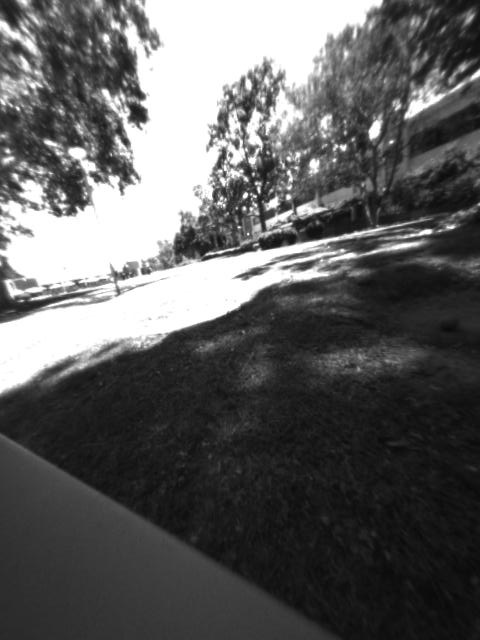dogtoy: (434, 308, 463, 337)
